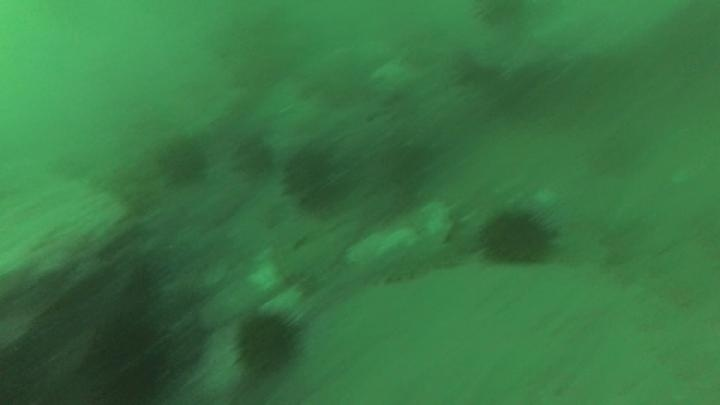echinus: (85, 313, 175, 403), (476, 205, 559, 268), (280, 142, 351, 213), (232, 308, 304, 378), (157, 135, 211, 187), (231, 133, 276, 180), (470, 1, 532, 30)
holothurian: (351, 236, 468, 287)
